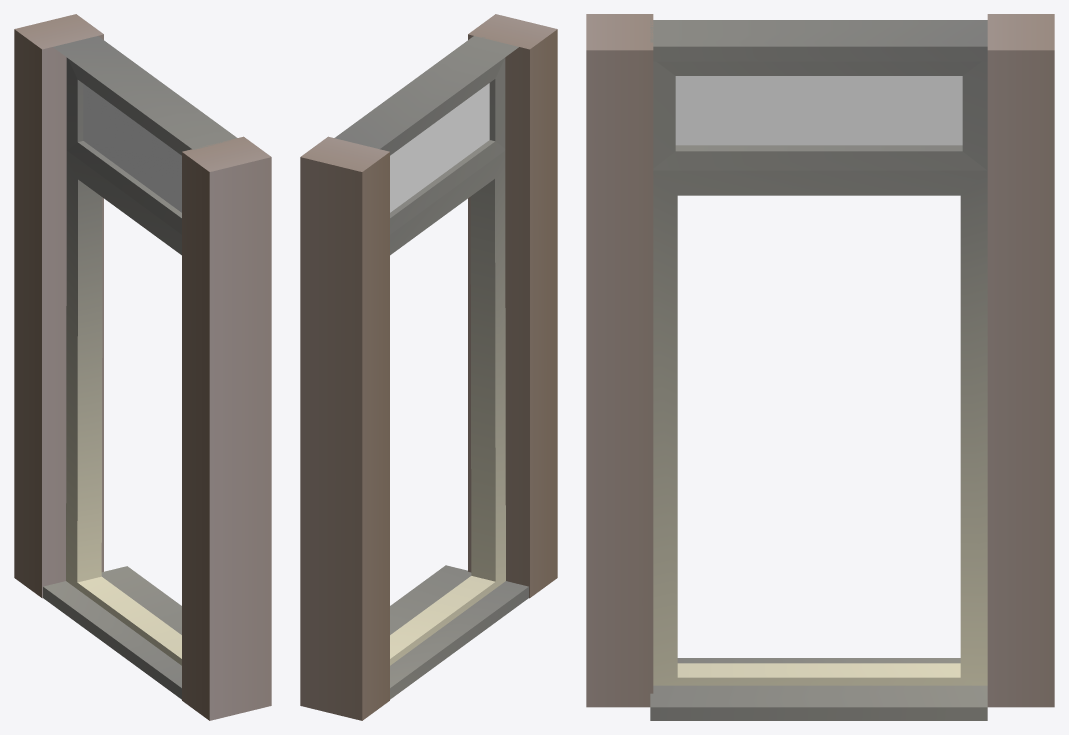
File: B01_cadre_porte_1.fbx
3 renders of one model, left to right at view 1: azimuth 30°, elevation 25°; view 2: azimuth 150°, elevation 25°; view 3: azimuth 270°, elevation 25°, orthographic. The views are drawn at different scales.
Parts seen in each view (by area): view 1: B01_cadre_porte_1; view 2: B01_cadre_porte_1; view 3: B01_cadre_porte_1.
Boxes of the visible parts, box(x1,y1,x2,y2) form: B01_cadre_porte_1: box(14, 14, 271, 720); B01_cadre_porte_1: box(300, 14, 557, 720); B01_cadre_porte_1: box(586, 14, 1054, 720).
Size of the model in its own units: 49.53 by 305 by 197.
